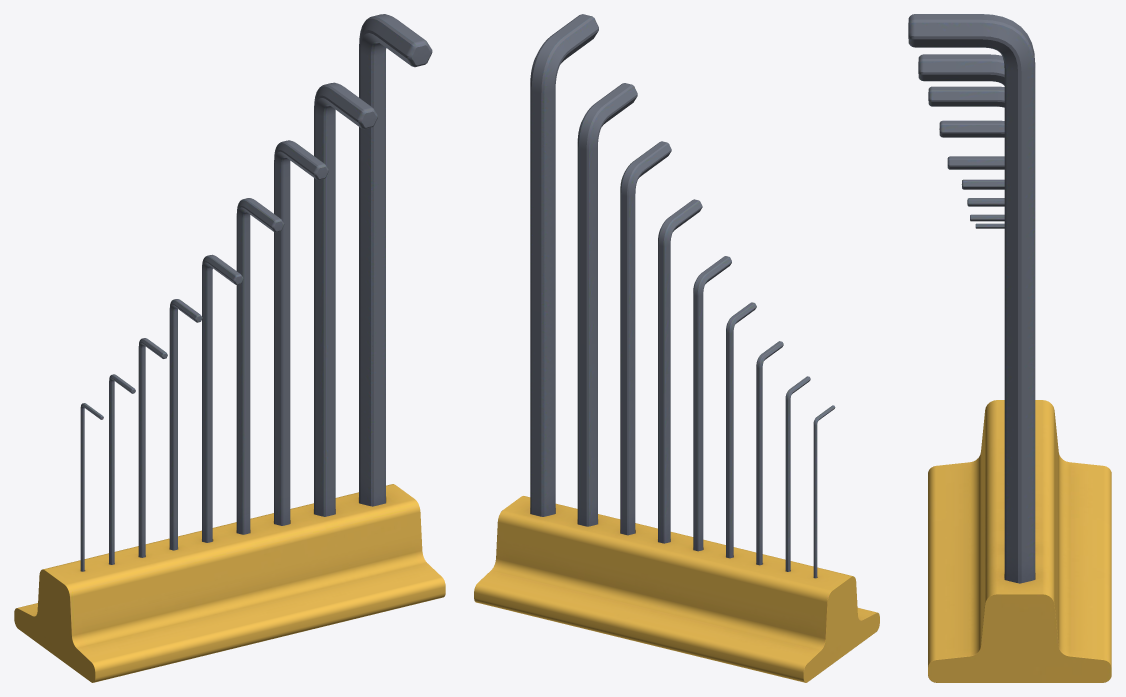
File: allen-key.glb
3 views of the same model, side by side, from view 1: azimuth 30°, elevation 25°; view 2: azimuth 150°, elevation 25°; view 3: azimuth 270°, elevation 25° (orthographic). The views are drawn at different scales.
Parts seen in each view (by area): view 1: allen-key_body; view 2: allen-key_body; view 3: allen-key_body.
Boxes of the visible parts, left/top/right/bottom form: allen-key_body: left=14, top=14, right=445, bottom=682; allen-key_body: left=474, top=14, right=879, bottom=682; allen-key_body: left=908, top=14, right=1111, bottom=682.
Bounding box in the file's own units: 0.1499 × 0.2332 × 0.0664.
1 material, 1 textured.
